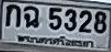letters: (4, 3, 22, 29), (23, 4, 40, 30), (93, 10, 108, 36), (48, 6, 63, 31), (63, 8, 78, 32), (79, 9, 93, 34)
province: (17, 33, 94, 49)
